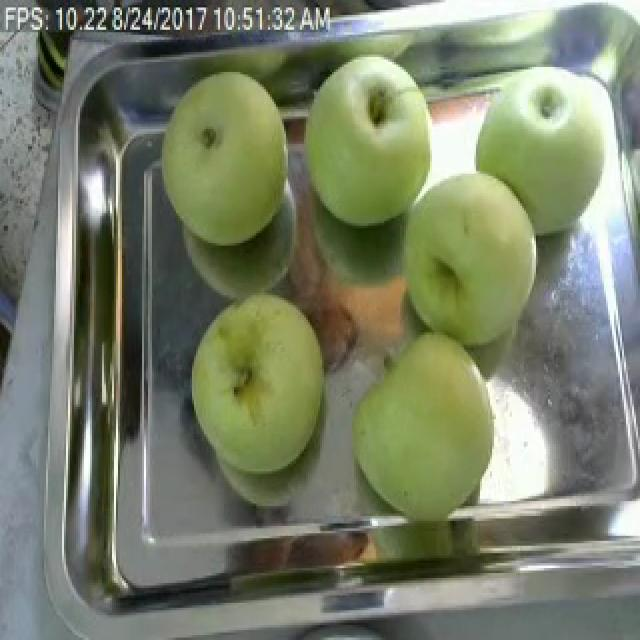50-_ripeness: (344, 324, 508, 535), (176, 289, 339, 479), (471, 65, 619, 244), (401, 166, 536, 352), (301, 48, 444, 220), (172, 65, 286, 252)
